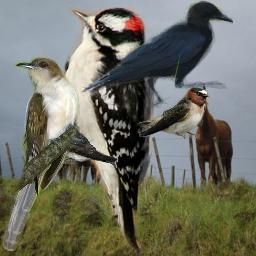Crow: (81, 0, 233, 108)
Cuckoo: (2, 57, 80, 251)
Swallow: (137, 85, 212, 140), (52, 123, 118, 167)
Woodpecker: (56, 7, 154, 254)
